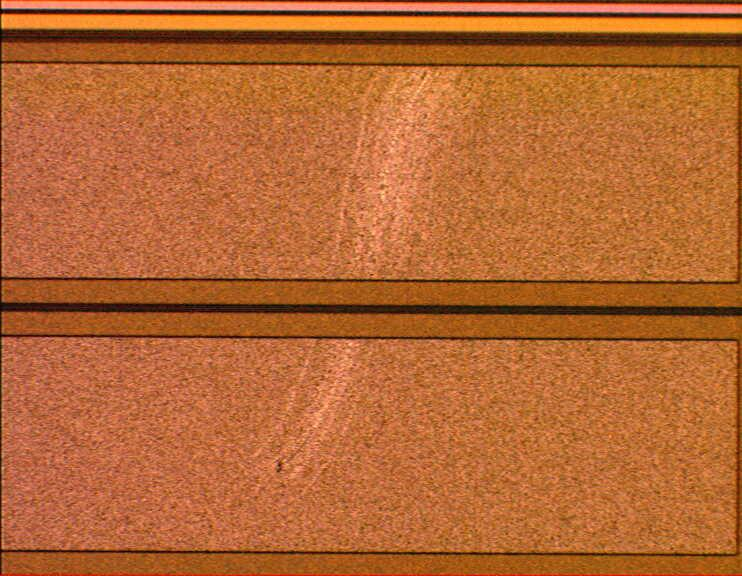SCRATCH: (209, 48, 487, 555)
